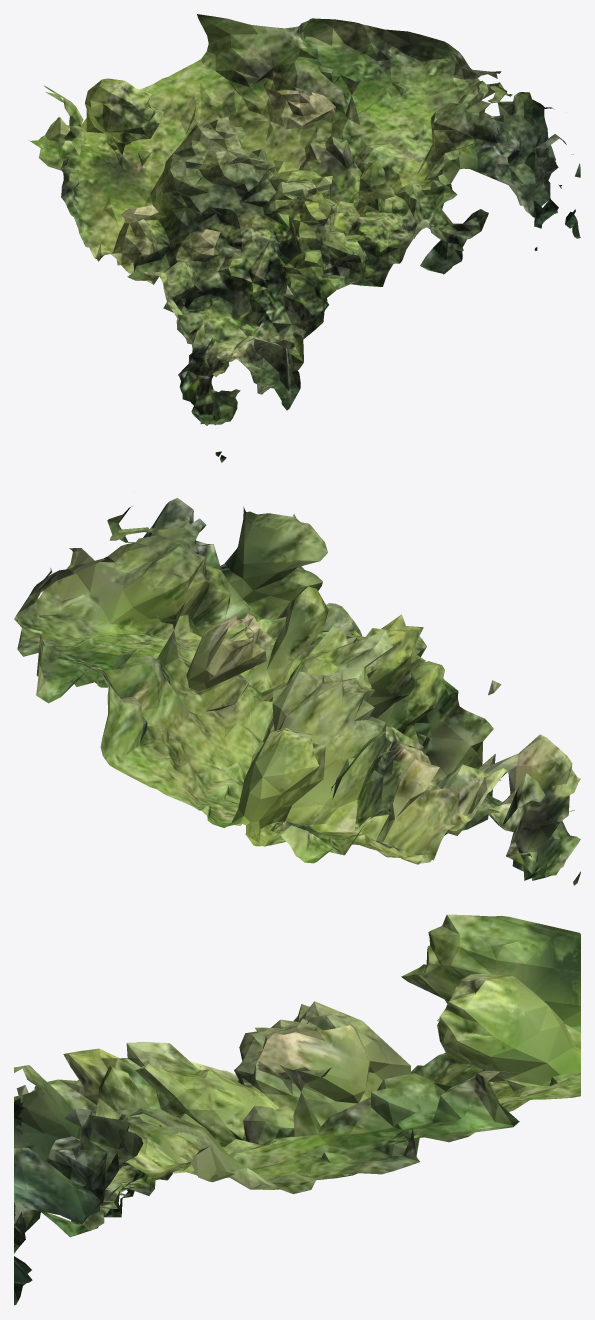
3 views of the same model, one above another, from view 1: azimuth 30°, elevation 25°; view 2: azimuth 150°, elevation 25°; view 3: azimuth 270°, elevation 25° (orthographic). The views are drawn at different scales.
Size of the model in its own units: 52.22 by 35.05 by 52.22.
5 materials, 5 textured.
